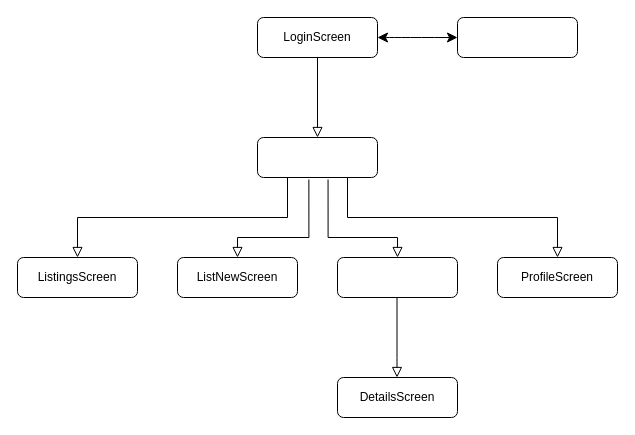
Image size: 635x435. Some labels were removed from this diagram. The shapes that lost their labels are listed below. From the top down, each one's box as (x1, y1, x2, y2) in pixels, then its label:
(456, 16, 578, 58): RegisterScreen
(256, 136, 378, 178): HomeScreen
(336, 256, 458, 298): MyListingsScreen
